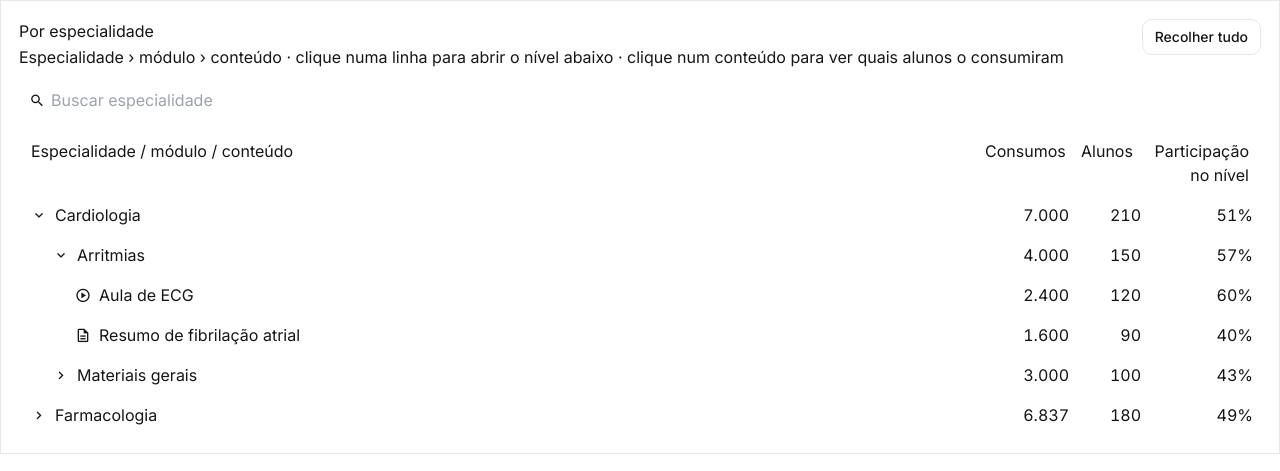
Test: GavetaConteudos — estrutura (§12.4) › busca de especialidade › sem resultado: mensagem com o termo; apagar a busca traz tudo de volta
This screenshot has width=1280, height=471.
Type "  xyz " into the search field with placeholder "Buscar especialidade" at (179, 100), box [19,83,339,117]
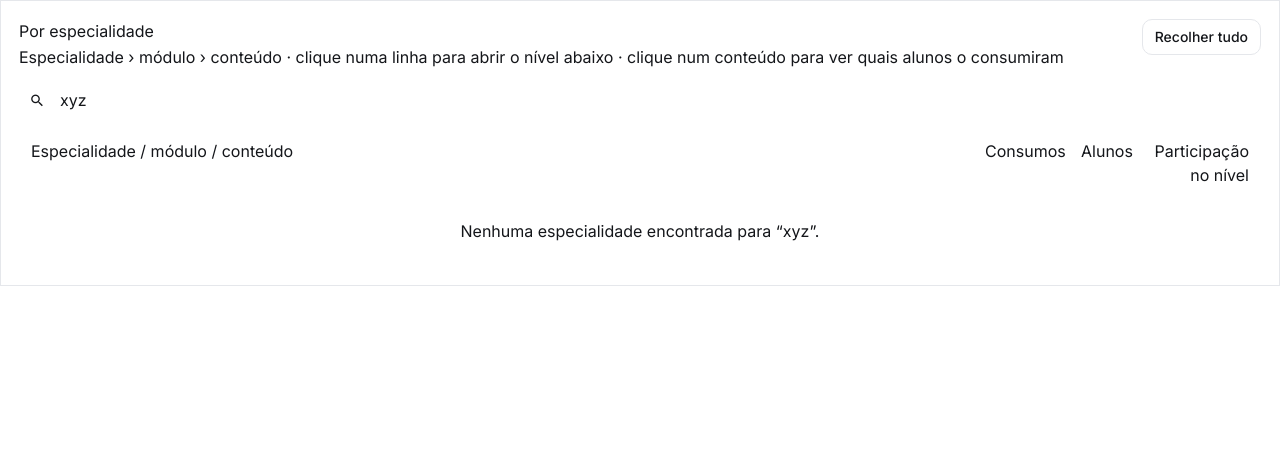
Result: the message reads "Nenhuma especialidade encontrada para “xyz”." at [460,221,819,241]
Clear the search field with placeholder "Buscar especialidade" at (179, 100), box [19,83,339,117]
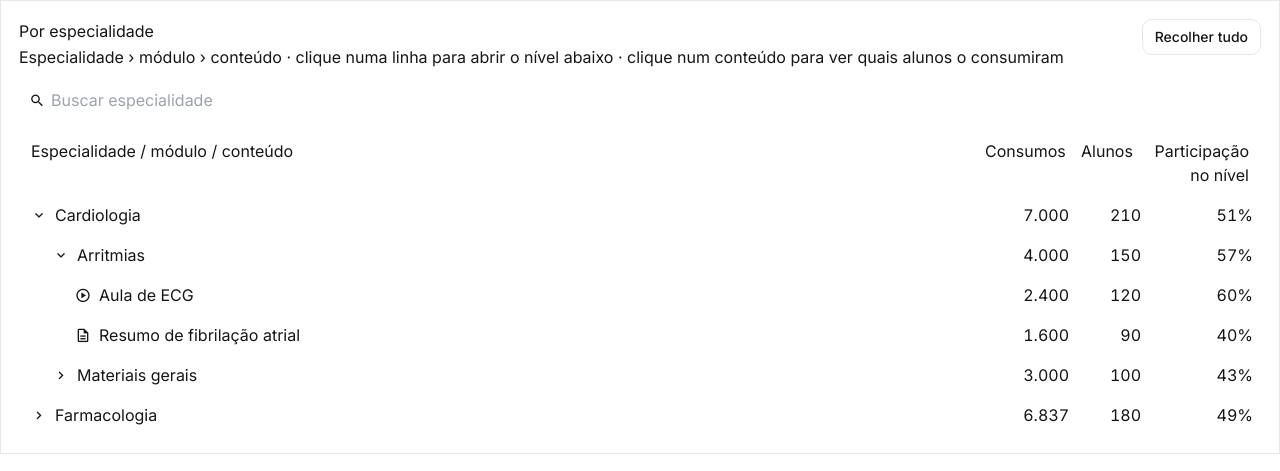
Result: the message "Nenhuma especialidade encontrada para “xyz”." is gone
